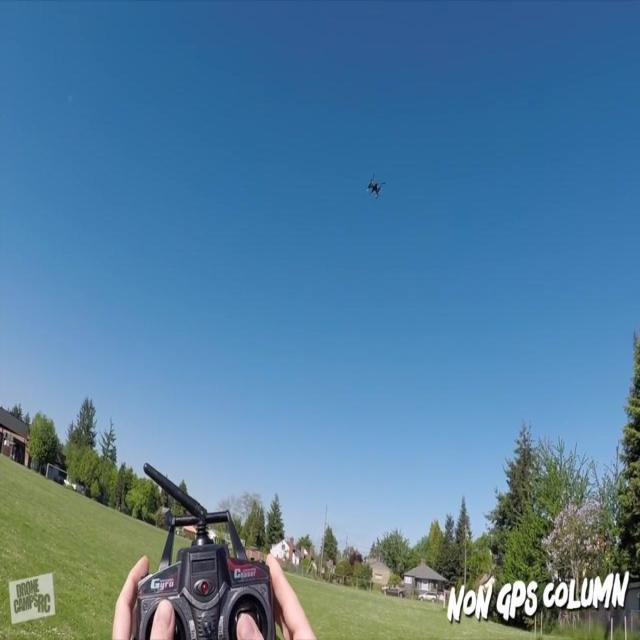drone: (366, 170, 385, 200)
